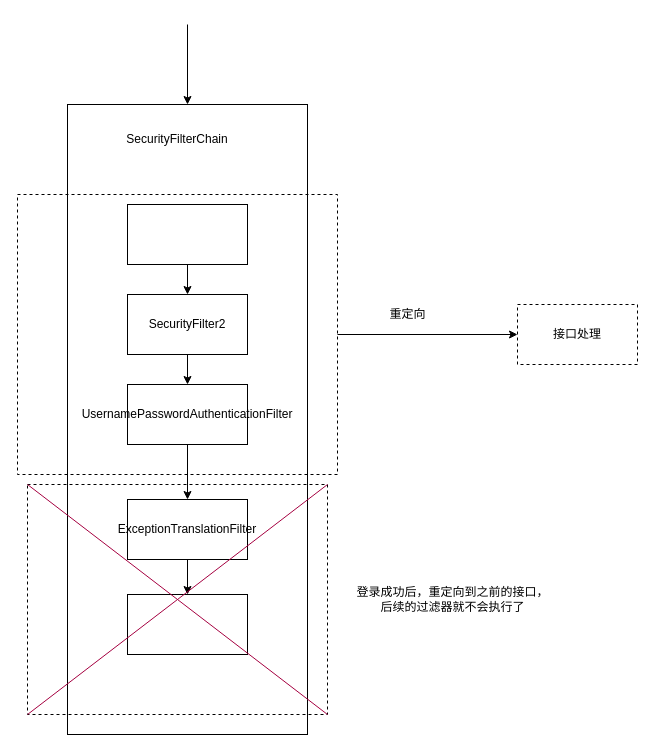
Some shapes in this 655 by 752 pixel diagram are drawn without their labels. Each missing label, with the centre of its shape:
FilterSecurityInterceptor: pixel 187 624
SecurityFilter1: pixel 187 234
